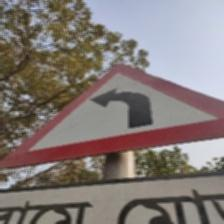Left-Turn: (1, 64, 223, 224)
